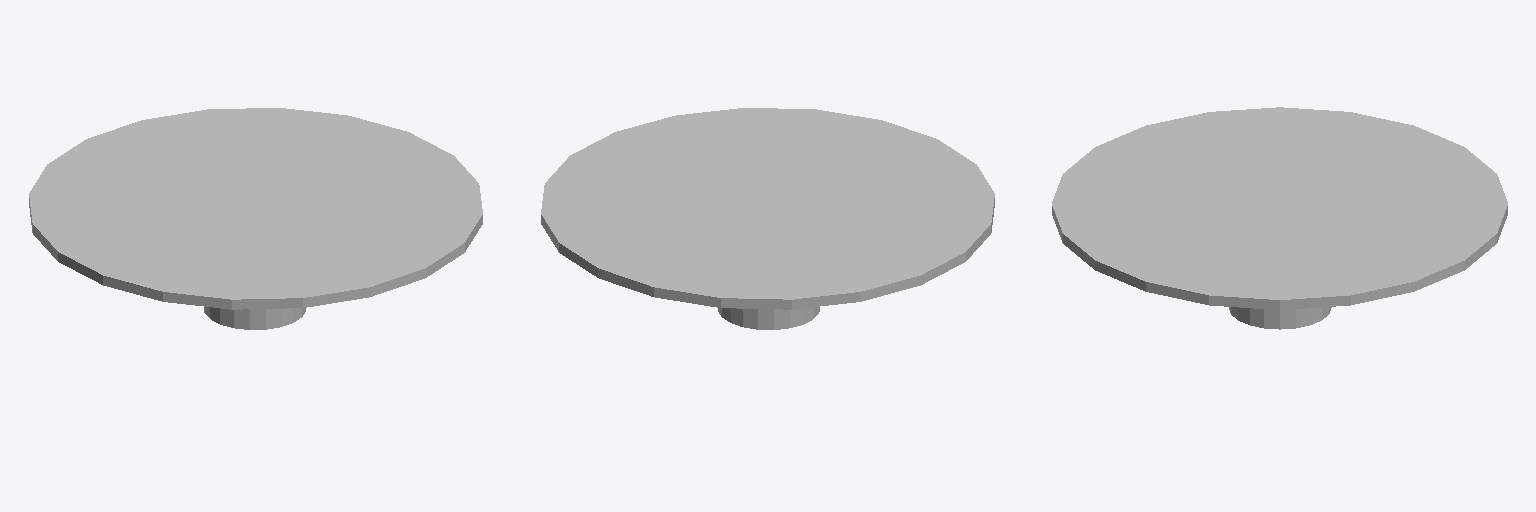
The model's file is table.obj.
3 views of the same model, side by side, from view 1: azimuth 30°, elevation 25°; view 2: azimuth 150°, elevation 25°; view 3: azimuth 270°, elevation 25° (orthographic).
Visible parts, largest first — view 1: polySurface1316; view 2: polySurface1316; view 3: polySurface1316.
Boxes of the visible parts, x1,y1,x2,y2 form: polySurface1316: [29, 108, 482, 329]; polySurface1316: [541, 108, 994, 329]; polySurface1316: [1052, 107, 1507, 329].
Bounding box in the file's own units: 26.62 × 6.72 × 26.62.